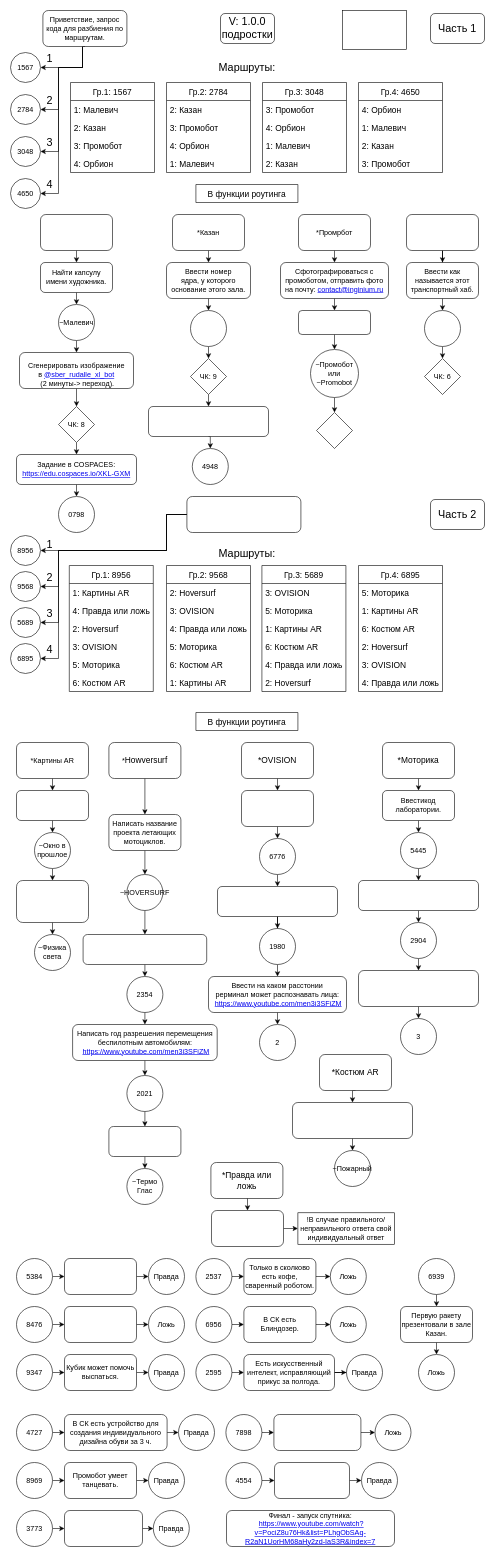
This 495x1557 diagram has some shape labels left out. The shapes that lost their labels are listed below. From the top down, each one's centre as x and y in pixels, then its label:
the point at 374,30: Есть общее сообщение о неправильном вводе за искл. *
the point at 76,232: *Малевич
the point at 442,232: *Орбион
the point at 208,328: 1 или 2
the point at 334,322: Ввести имя робота
the point at 442,328: ~Орбион
the point at 208,421: Задание в COSPACES: https://edu.cospaces.io/KMD-ZEG
the point at 334,430: ЧК: 5
the point at 243,514: Запрос кода, состоящего из частей кода в порядке их получения на каждом этапе
the point at 52,805: Ввести название картины с историей.
the point at 277,808: Ввести код терминала лаборатории.
the point at 52,901: Ввести название картины со спрятавшимся другом доктора.
the point at 277,901: Задание в COSPACES: https://edu.cospaces.io/MUU-QPK
the point at 418,895: Задание в COSPACES: https://edu.cospaces.io/JYR-TEZ
the point at 144,949: Задание в COSPACES: https://edu.cospaces.io/QEW-HYM
the point at 418,988: Ввести сколько недель делается протез: https://edu.cospaces.io/JYR-TEZ
the point at 352,1120: Ввести название жизненно важной профессии, чей костюм можно примерить.
the point at 144,1141: Найти в капсуле особое стекло.
the point at 247,1228: Вводить коды фактов -> нажимать Правда/Ложь
the point at 100,1276: В СК есть зарядка на 100 телефонов.
the point at 100,1324: Мыла из мух не существует.
the point at 317,1432: Внутри робота FIBBEE сидит бариста, который варит кофе.
the point at 312,1480: В Сколково есть стекло, которое заменяет батарею.
the point at 103,1528: Транспортировачная коляска может сама спускаться по лестнице.
